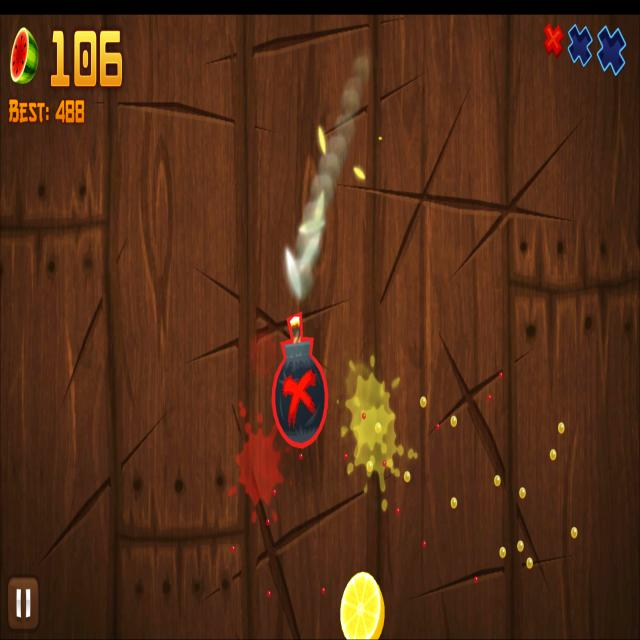bomb: (271, 311, 330, 451)
